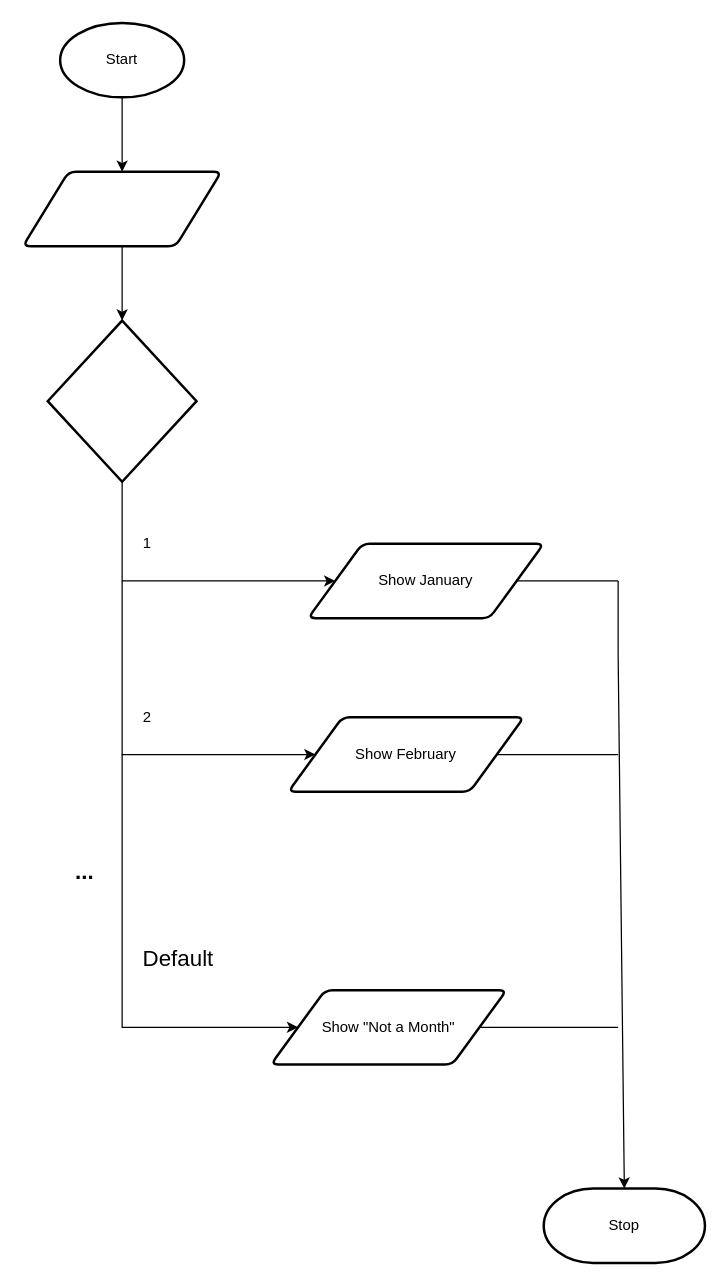
The diagram is 727 pixels wide and 1285 high, and some of its shapes have lost their labels. The box of each missing label's shape, as (x1, y1, x2, y2) in pixels:
Get Number: (21, 170, 222, 247)
Month Number: (46, 319, 197, 482)
